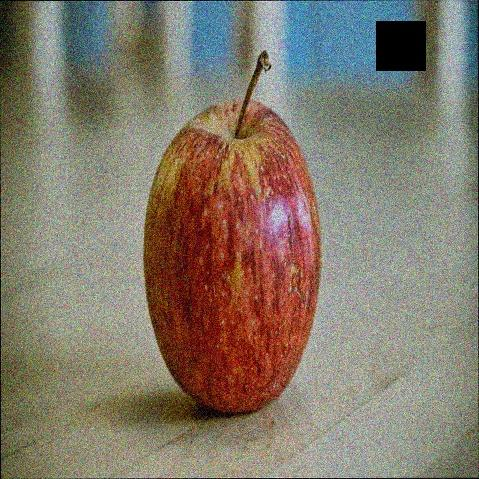red apple: (144, 94, 325, 414)
